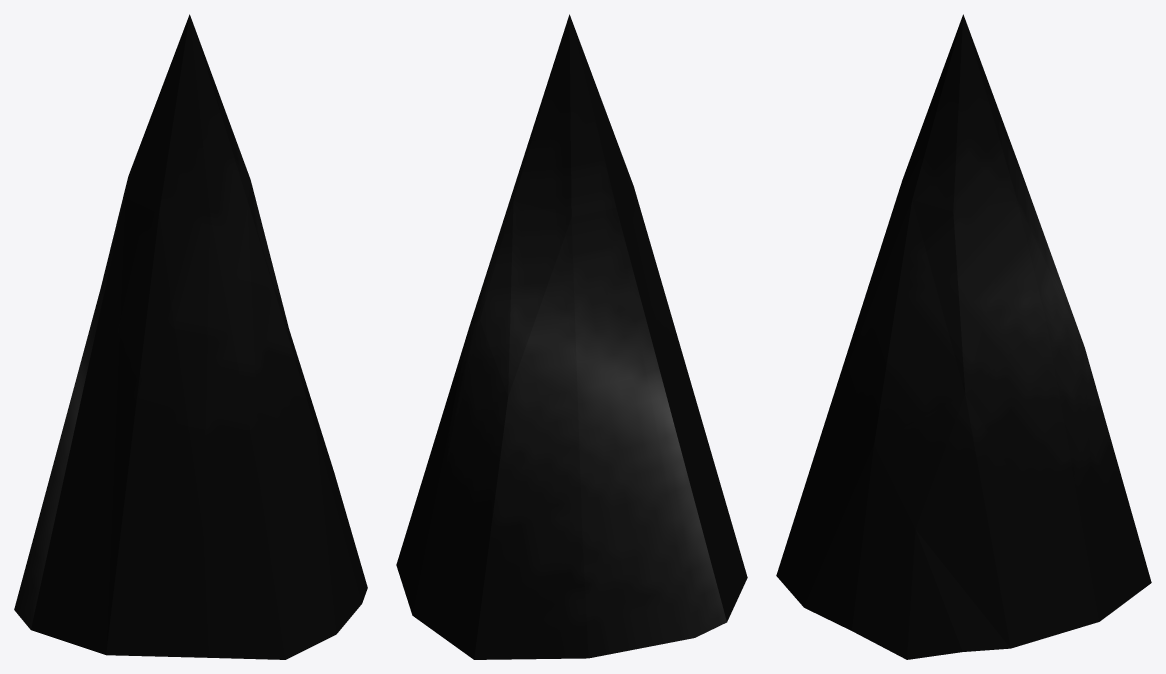
File: 0344_jiao.glb
The picture shows the model from 3 angles, left to right: view 1: azimuth 30°, elevation 25°; view 2: azimuth 150°, elevation 25°; view 3: azimuth 270°, elevation 25°; orthographic projection. The views are drawn at different scales.
Bounding box in the file's own units: 1.24 × 2.2 × 1.3.
Materials: 1 (1 with a texture image).
